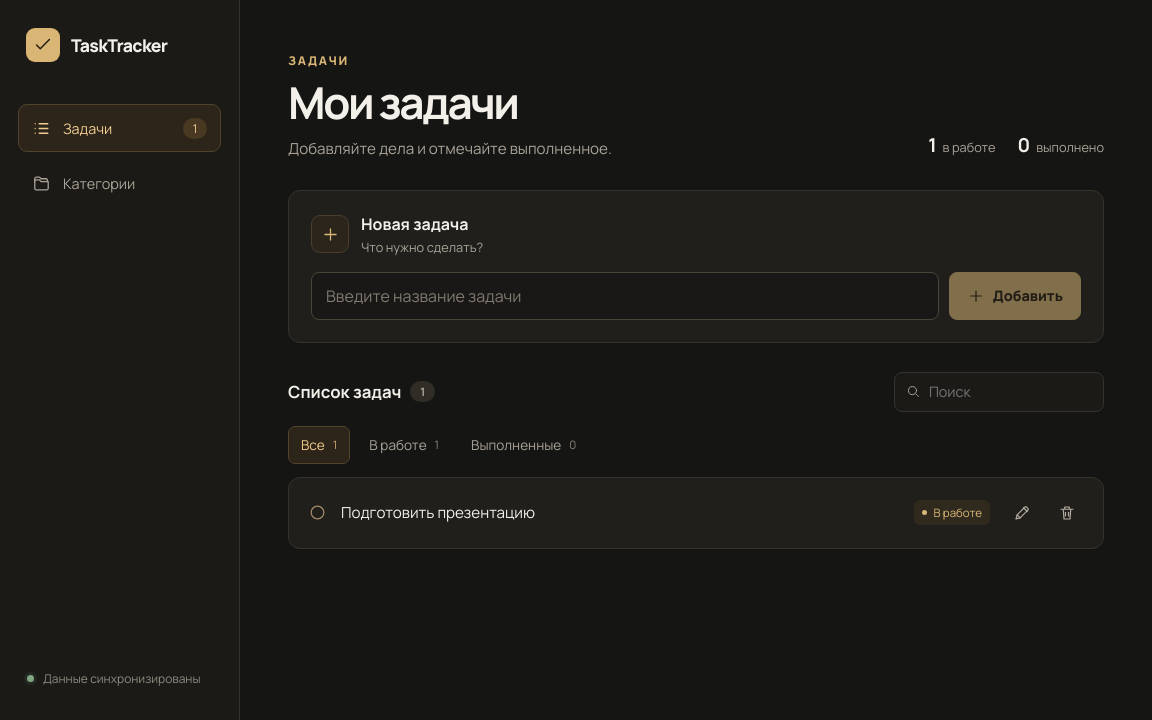
Test: TaskTracker › edits title and sends a boolean when completed was false
Expected: the text "Подготовить презентацию" is shown, [341,502,535,523]
Click the button named "Изменить задачу: Подготовить презентацию" at [1022, 513], box [1003,494,1041,532]
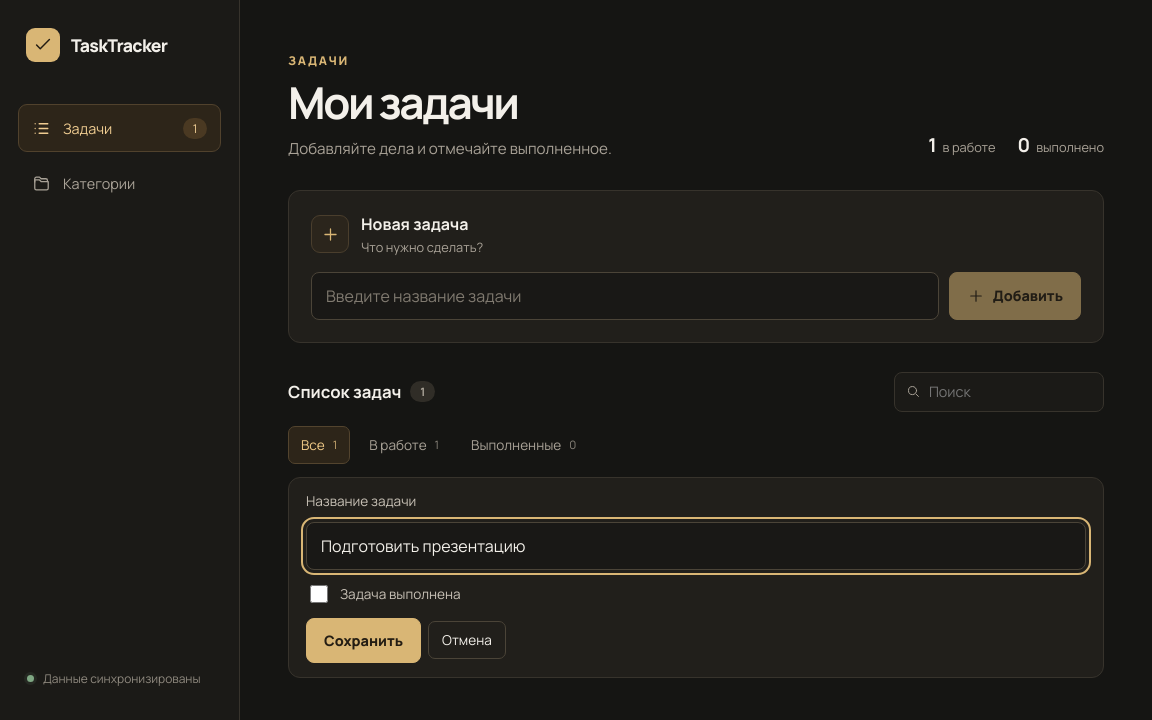
Replace the text in the field labelled "Название задачи" with "  Новое название  " at [696, 546], box [306,522,1086,570]
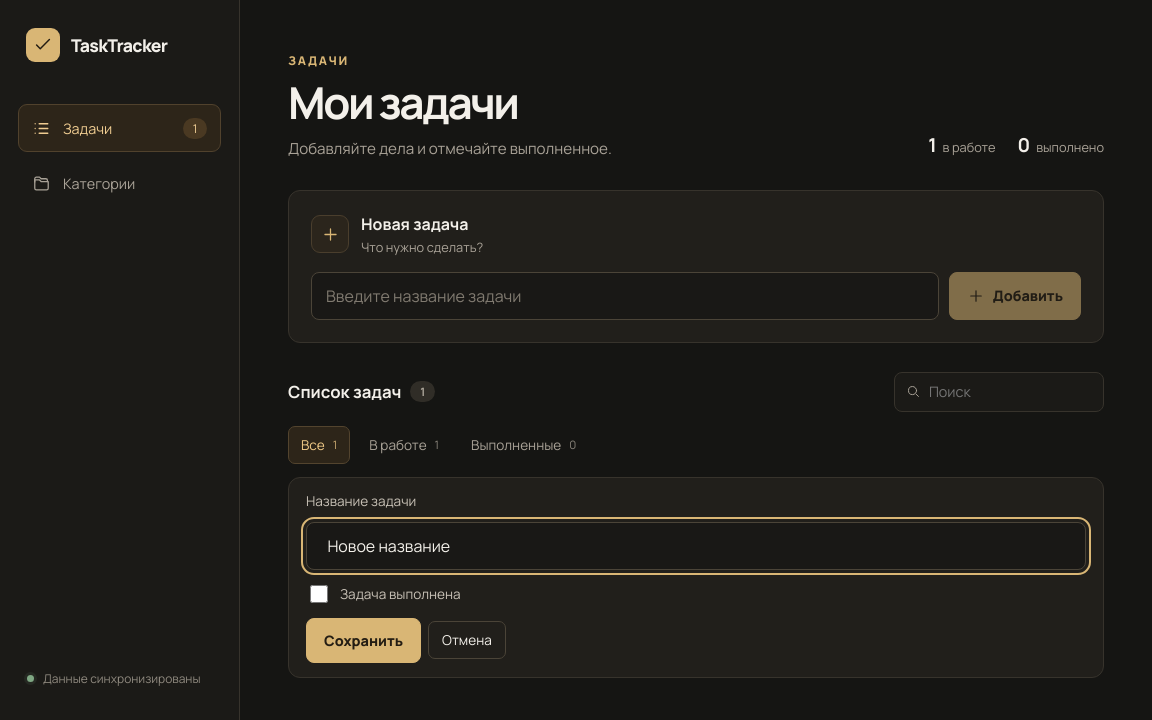
Click the checkbox labelled "Задача выполнена" at [319, 594], box [310,585,328,603]
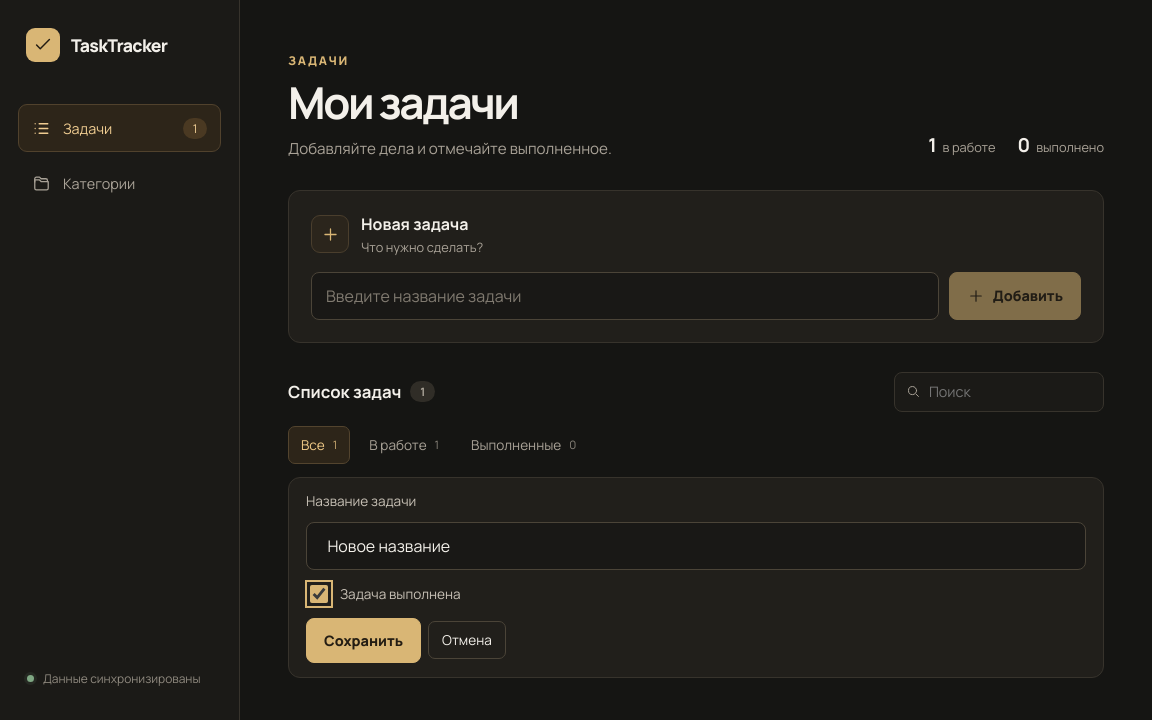
Click the button "Сохранить" at [364, 640], box [306,618,421,663]
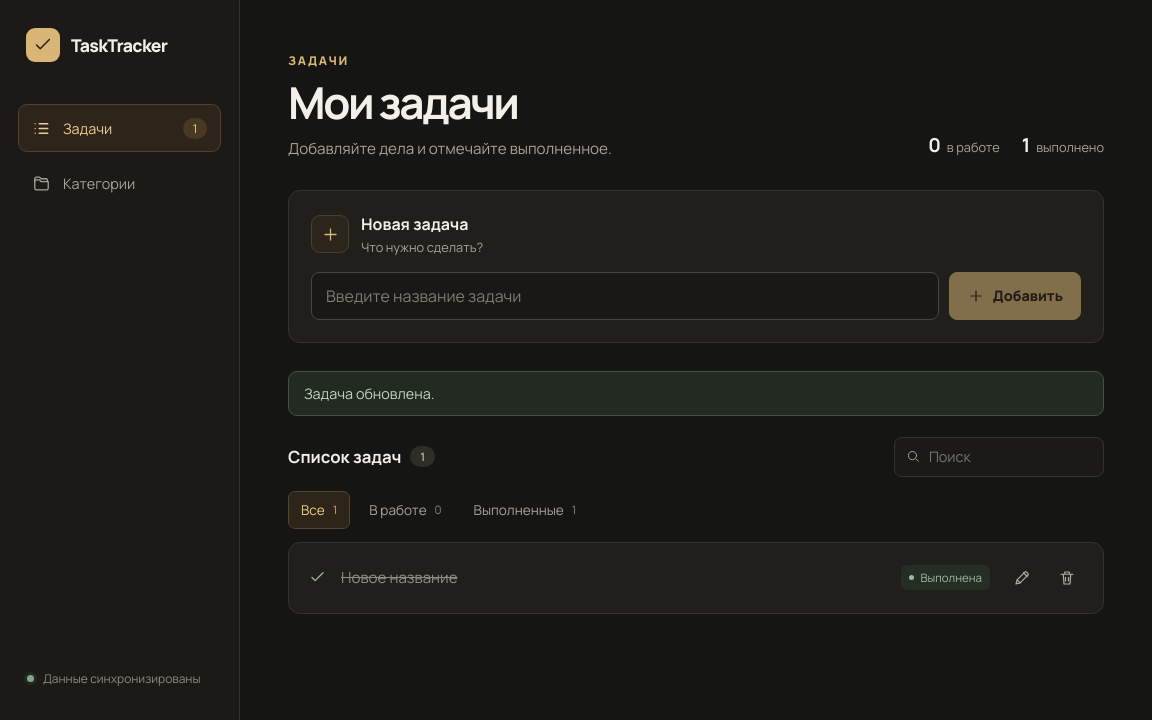
Result: the text "Новое название" is shown at [341,567,458,588]
Result: the message shows "Задача обновлена" at [304,384,434,403]
Result: the checkbox is gone
